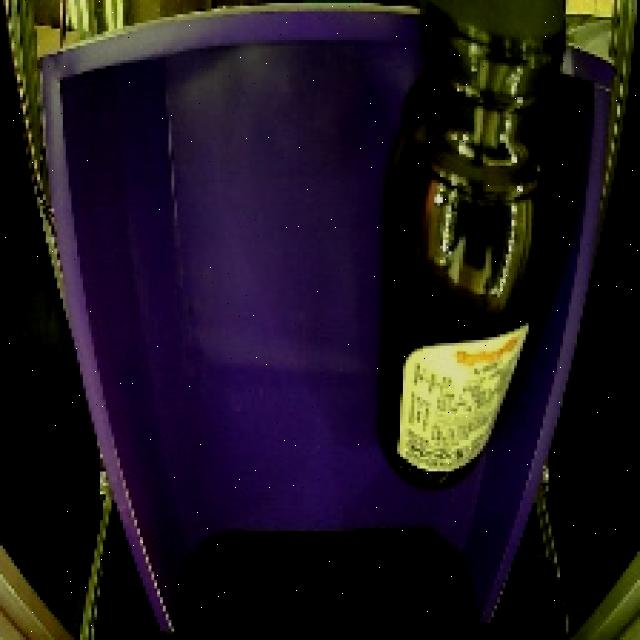plastic: (380, 0, 580, 497)
